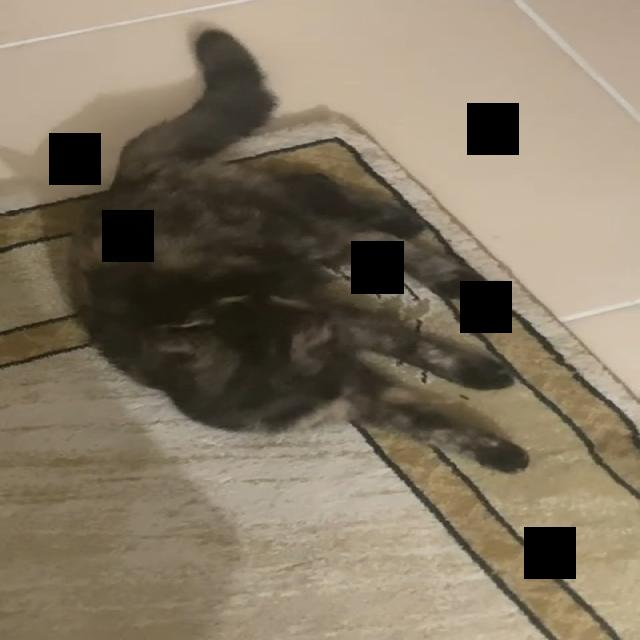authorized: (65, 21, 531, 475)
